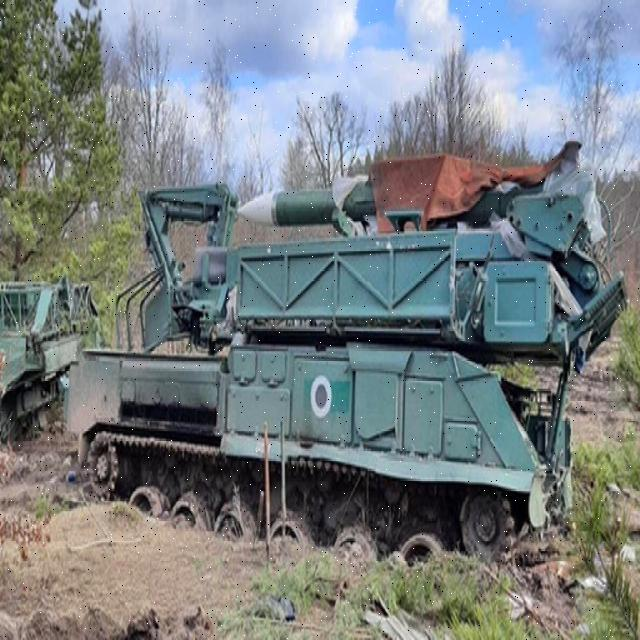MLRS: (61, 128, 629, 584)
